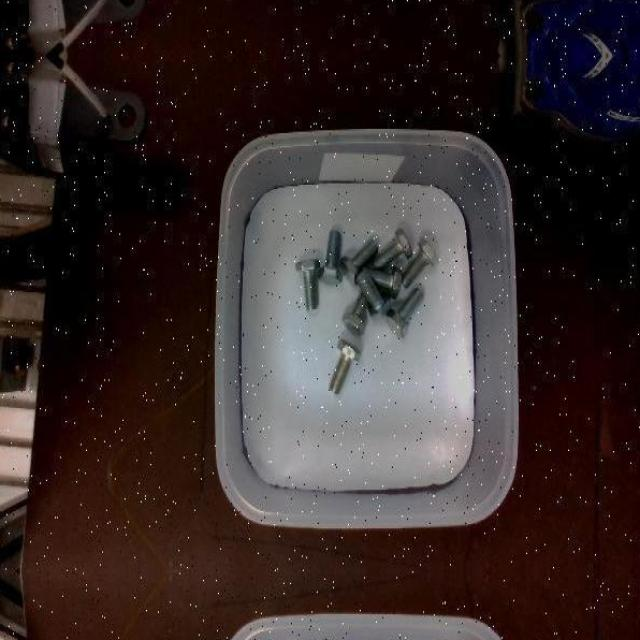screw: (328, 337, 362, 393), (386, 286, 424, 336), (402, 238, 439, 288), (370, 227, 412, 270), (355, 270, 390, 320), (316, 229, 342, 283), (295, 260, 320, 311)
